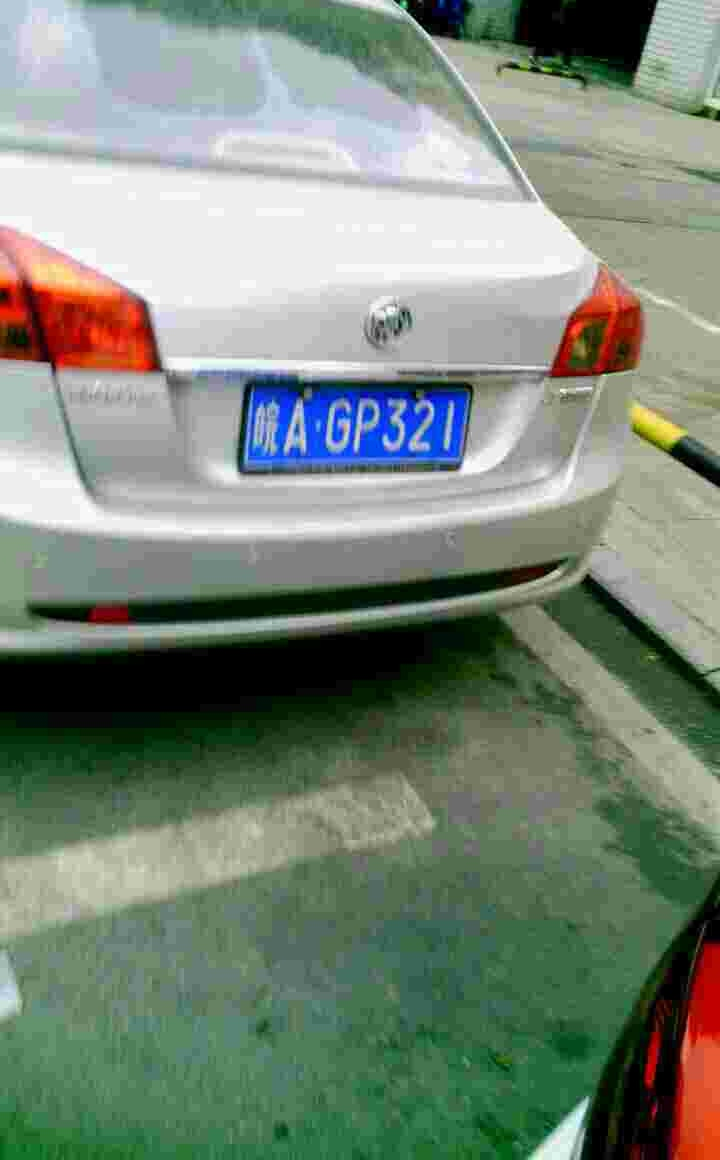license_plate: (253, 385, 462, 471)
